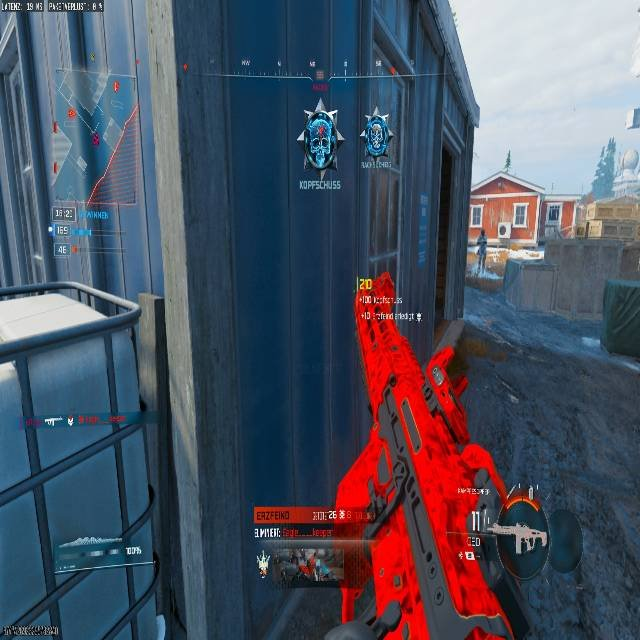player: (299, 100, 345, 182), (475, 231, 487, 266)
